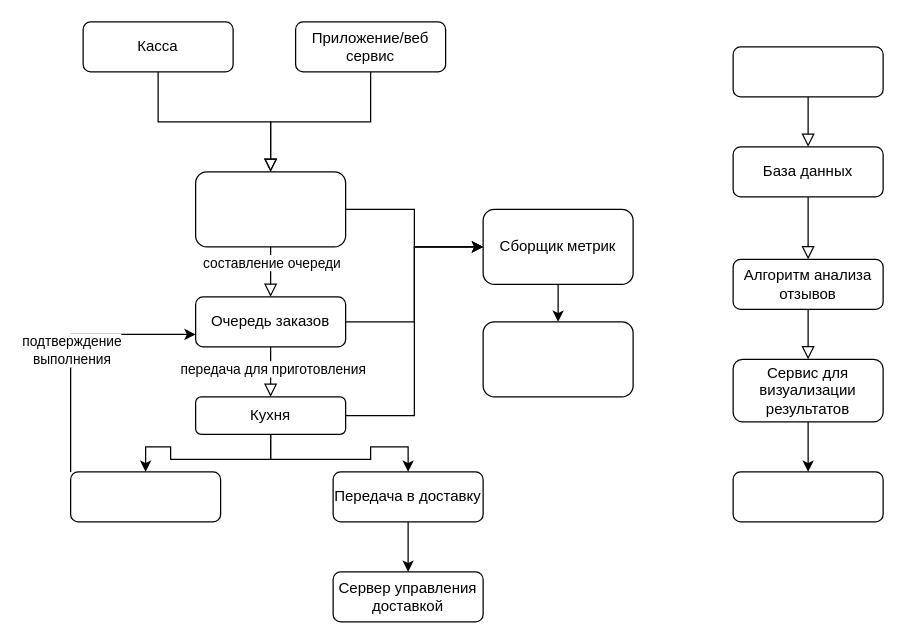
The diagram is 905 pixels wide and 644 high, and some of its shapes have lost their labels. The centre of each missing label's shape, as x and y in pixels:
Анализатор: (557,359)
Аналитики: (807,496)
Выдача: (145,496)
Обработчик заказв: (270,209)
Отзывы клиентов: (807,71)
